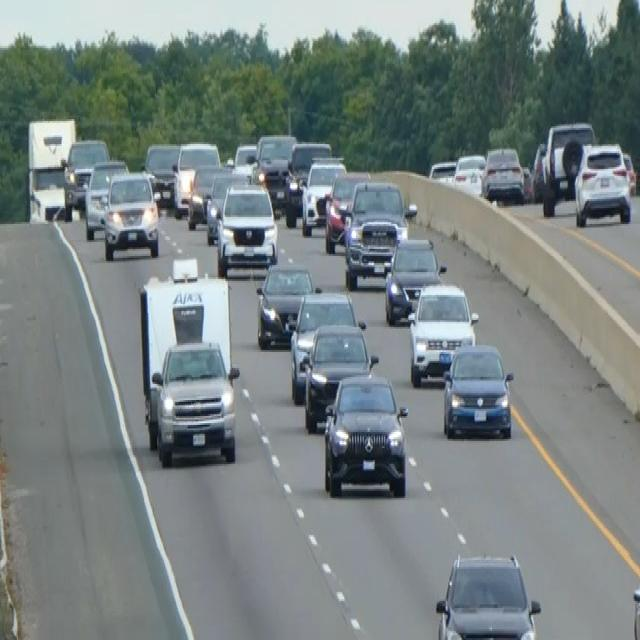car: (435, 550, 541, 638), (302, 320, 378, 432), (289, 288, 361, 402), (342, 178, 415, 288), (406, 281, 479, 386), (442, 341, 514, 439), (216, 180, 278, 274), (383, 234, 445, 324), (255, 262, 316, 348), (102, 169, 160, 259), (541, 119, 596, 213), (573, 140, 631, 226), (284, 138, 332, 225), (62, 137, 109, 219), (172, 139, 221, 217), (324, 170, 370, 252), (83, 158, 128, 240), (300, 154, 346, 234), (205, 167, 251, 244), (254, 132, 296, 208), (186, 162, 228, 229), (480, 144, 525, 204), (142, 142, 180, 206), (453, 151, 485, 194), (232, 140, 258, 182), (531, 141, 547, 199), (622, 149, 637, 194), (428, 158, 456, 182)
jeep: (321, 368, 410, 500)
motorcycle: (631, 585, 639, 638)
truck: (137, 258, 239, 466)
